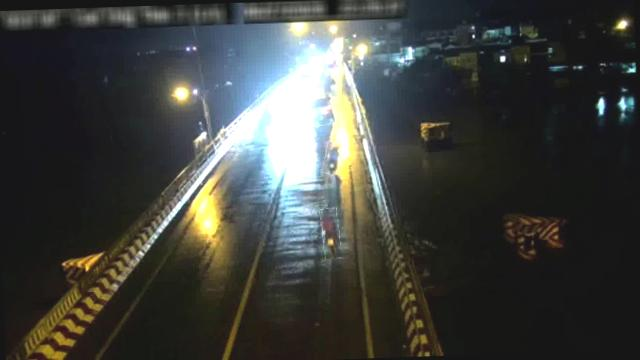Bike: (321, 208, 341, 260), (324, 142, 343, 176)
Car: (306, 94, 338, 127)
